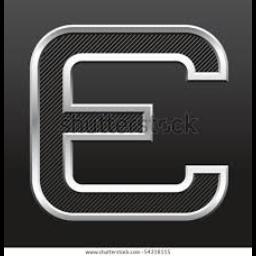e: (26, 15, 238, 221)
